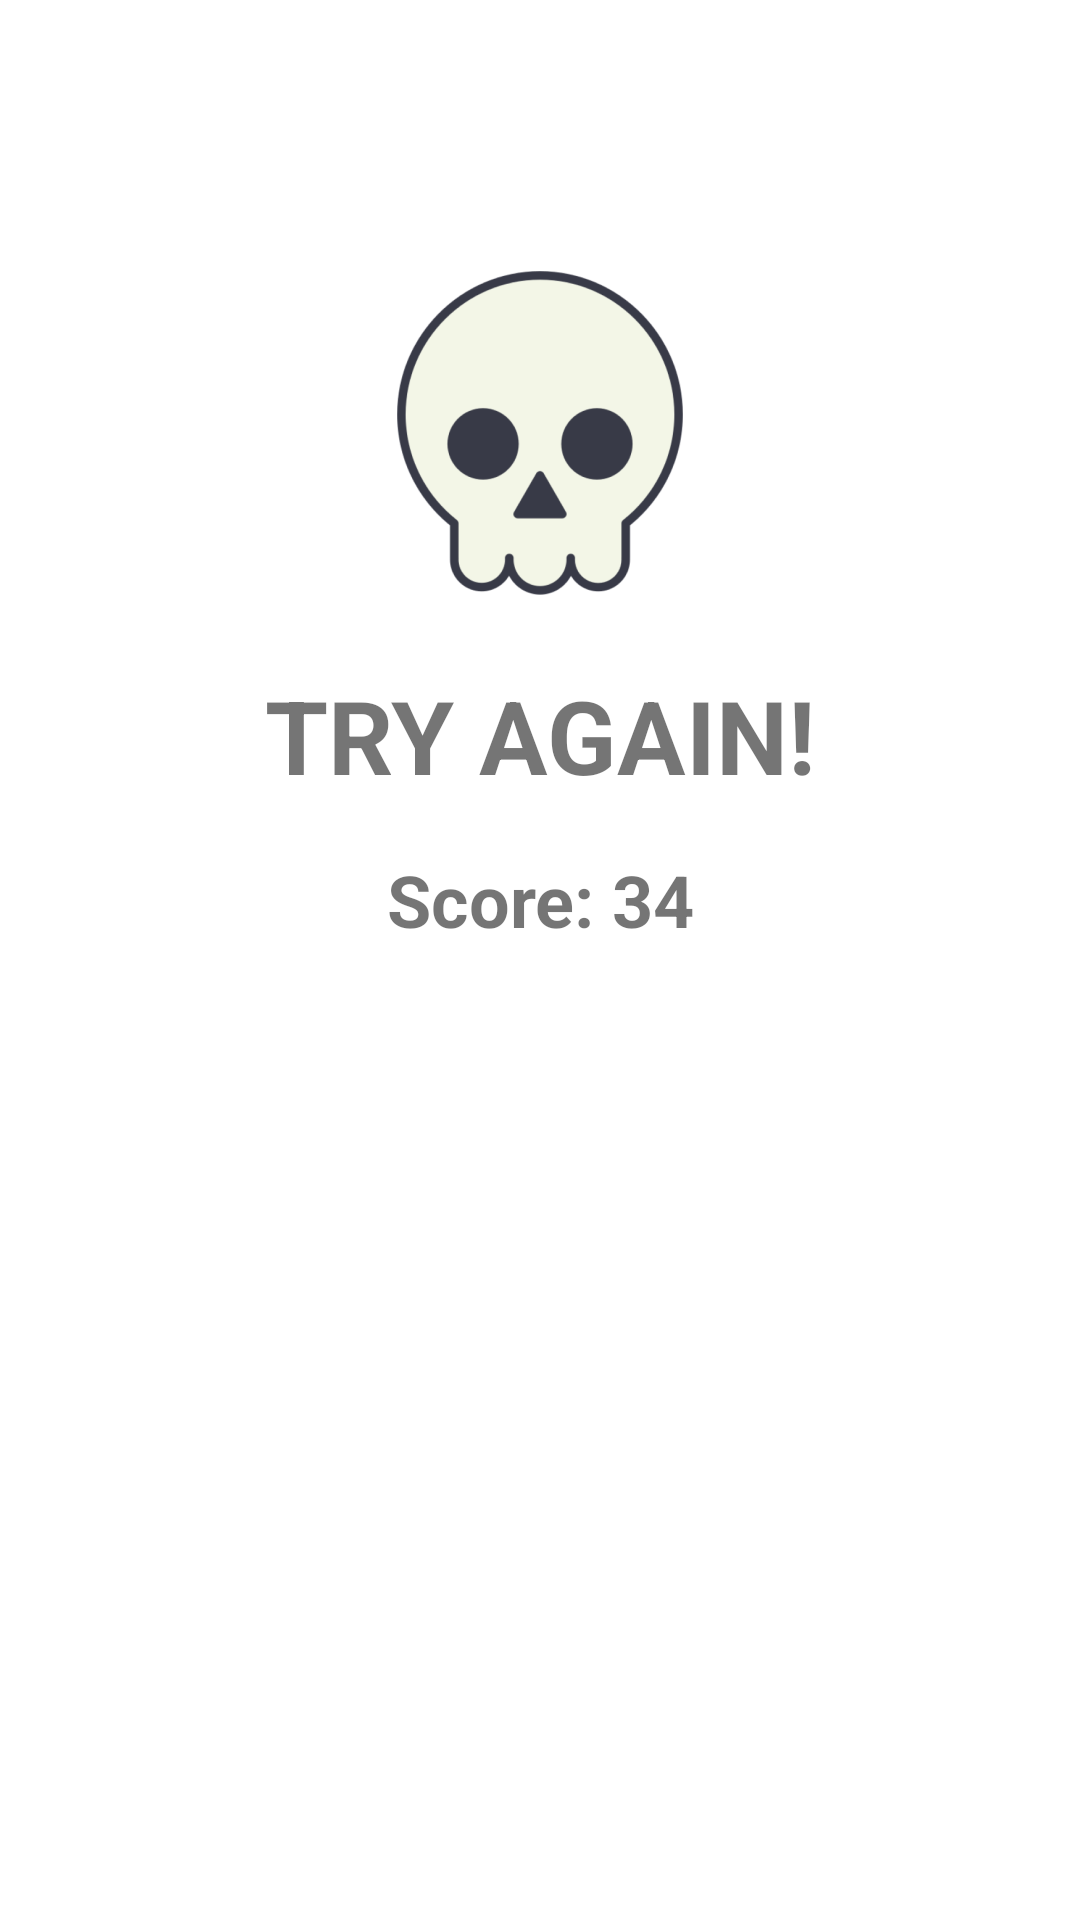

Screen size 1080 × 1920. Icon name, then its center in pixels as [x,y]:
skull: [540,433]
